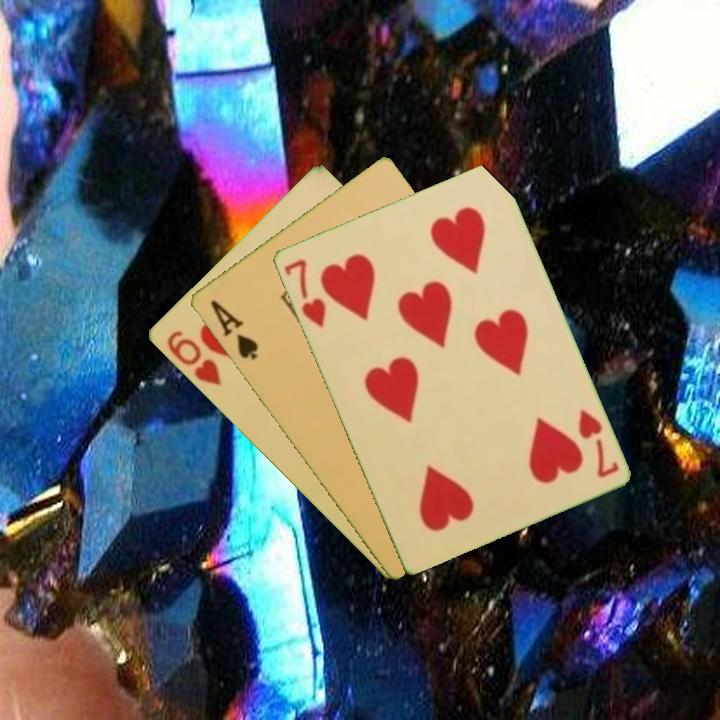6h: (163, 326, 224, 389)
7h: (279, 255, 328, 330), (574, 405, 622, 481)
As: (206, 296, 261, 363)
